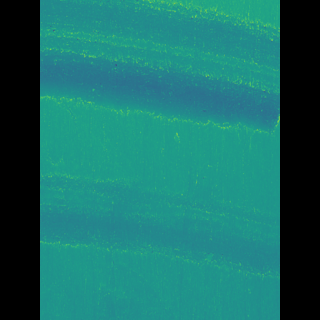Loch: (70, 0, 250, 134), (70, 170, 249, 282)
